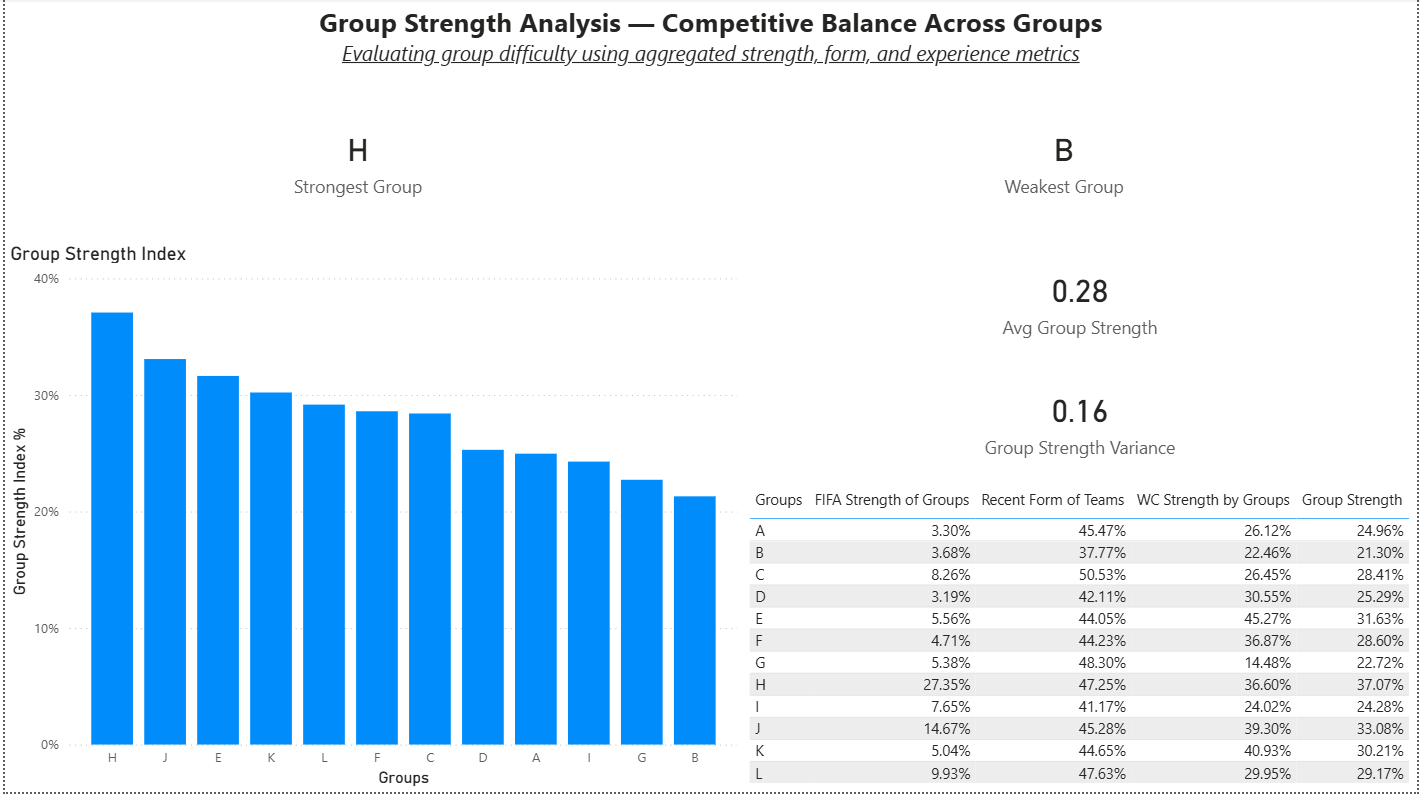

The page's visual inventory and layout, read from the dashboard file:
{"tool":"powerbi","page":{"name":"Group Strength Analysis","canvas":[1280,720],"ordinal":1},"visuals":[{"type":"clusteredColumnChart","title":"Group Strength Index ","fields":{"Category":["gold_group_strength_index.group_id"],"Y":["Sum(gold_group_strength_index.group_strength_index)"]},"box":[0,221.3,669.2,498.7],"z":0},{"type":"tableEx","fields":{"Values":["gold_group_strength_index.group_id","gold_group_strength_index.avg_fifa_strength","gold_group_strength_index.avg_recent_form","gold_group_strength_index.avg_wc_strength","gold_group_strength_index.group_strength_index"]},"box":[669.2,439.8,611.2,280.2],"z":1000},{"type":"textbox","box":[0,0,1280,70.4],"z":2000},{"type":"card","fields":{"Values":["gold_group_strength_index.Strongest Group"]},"box":[0,70.7,640.2,150.5],"z":3000},{"type":"card","fields":{"Values":["gold_group_strength_index.Weakest Group"]},"box":[640.2,70.7,640.2,150.5],"z":4000},{"type":"card","fields":{"Values":["gold_group_strength_index.Avg Group Strength"]},"box":[669.2,221.3,611.2,105.2],"z":5000},{"type":"card","fields":{"Values":["gold_group_strength_index.Group Strength Variance"]},"box":[669.2,326.4,611.2,113.4],"z":5001}]}

Visuals, with their boxes in screenshot pixels (x1, y1, x2, y2), scaled from the page's 1280x720 canvas onto the 1421x794 screenshot:
"Group Strength Index " clusteredColumnChart: crop(0, 244, 743, 793)
tableEx - gold_group_strength_index.group_id x gold_group_strength_index.avg_fifa_strength: crop(743, 485, 1420, 793)
textbox: crop(0, 0, 1420, 78)
card - gold_group_strength_index.Strongest Group: crop(0, 78, 711, 244)
card - gold_group_strength_index.Weakest Group: crop(711, 78, 1420, 244)
card - gold_group_strength_index.Avg Group Strength: crop(743, 244, 1420, 360)
card - gold_group_strength_index.Group Strength Variance: crop(743, 360, 1420, 485)
